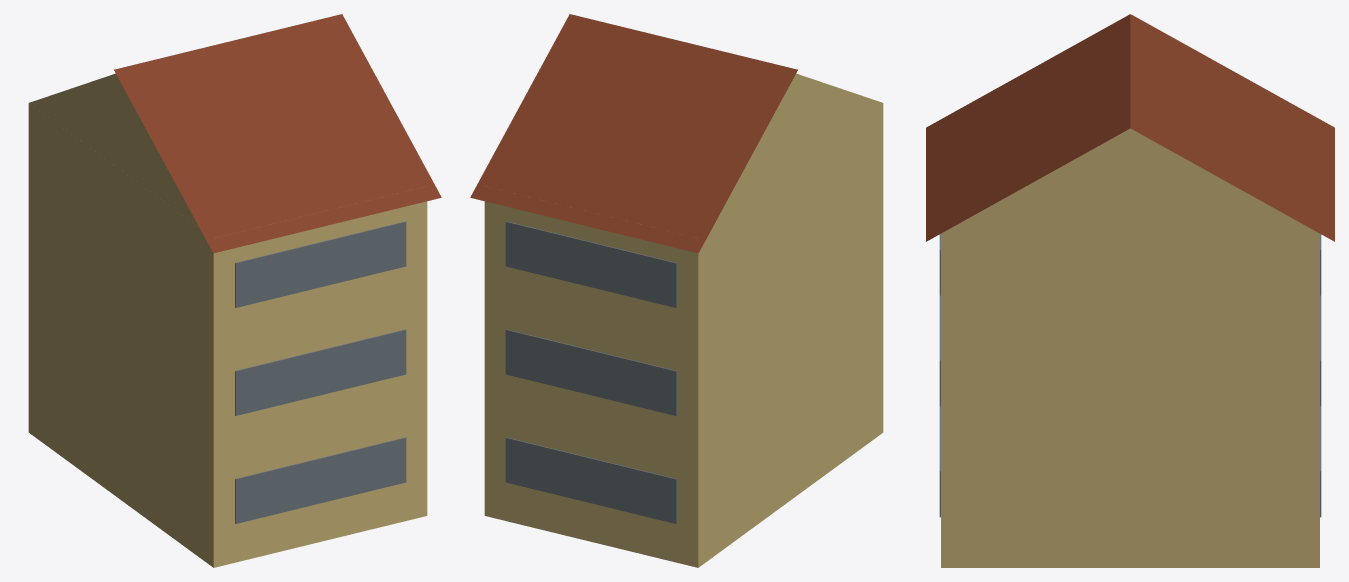
The model's file is cove-house-yellow.tone-v1.lod2.glb.
3 renders of one model, left to right at view 1: azimuth 30°, elevation 25°; view 2: azimuth 150°, elevation 25°; view 3: azimuth 270°, elevation 25°, orthographic. The views are drawn at different scales.
Parts seen in each view (by area): view 1: cove-house-yellow; view 2: cove-house-yellow; view 3: cove-house-yellow.
Part boxes in pixels (x1,y1,x2,y2): cove-house-yellow: (28, 14, 441, 567); cove-house-yellow: (470, 14, 883, 567); cove-house-yellow: (926, 14, 1334, 567).
Bounding box in the file's own units: 6.42 × 11.61 × 9.7.
